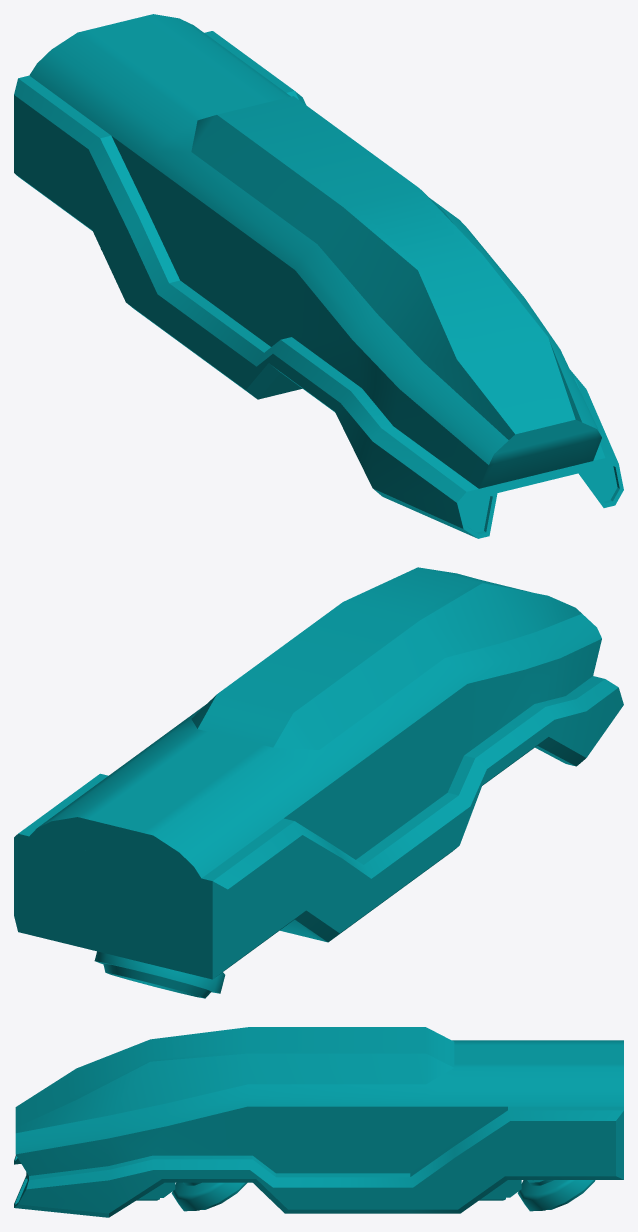
The model's file is SM_Obstacle_Train_Front.fbx.
The picture shows the model from 3 angles, top to bottom: view 1: azimuth 30°, elevation 25°; view 2: azimuth 150°, elevation 25°; view 3: azimuth 270°, elevation 25°; orthographic projection. The views are drawn at different scales.
Visible parts, largest first — view 1: SM_Train_Top_Base_low, SM_Train_Bottom_Base_low; view 2: SM_Train_Top_Base_low, SM_Train_Bottom_Base_low, SM_Thruster_02_low; view 3: SM_Train_Top_Base_low, SM_Train_Bottom_Base_low, SM_Thruster_02_low, SM_Thruster_01_low, SM_Thruster_Hold_02_low, SM_Thruster_Hold_01_low.
Part boxes in pixels (x1,y1,x2,y2): SM_Train_Top_Base_low: [29, 14, 601, 488]; SM_Train_Bottom_Base_low: [14, 31, 623, 538]; SM_Train_Top_Base_low: [29, 567, 601, 878]; SM_Train_Bottom_Base_low: [14, 676, 623, 979]; SM_Thruster_02_low: [94, 951, 225, 998]; SM_Train_Top_Base_low: [15, 1027, 623, 1175]; SM_Train_Bottom_Base_low: [14, 1106, 623, 1217]; SM_Thruster_02_low: [517, 1180, 595, 1211]; SM_Thruster_01_low: [171, 1182, 247, 1211]; SM_Thruster_Hold_02_low: [479, 1180, 521, 1200]; SM_Thruster_Hold_01_low: [136, 1182, 175, 1200].
Bounding box in the file's own units: 3.15 × 3.27 × 11.
